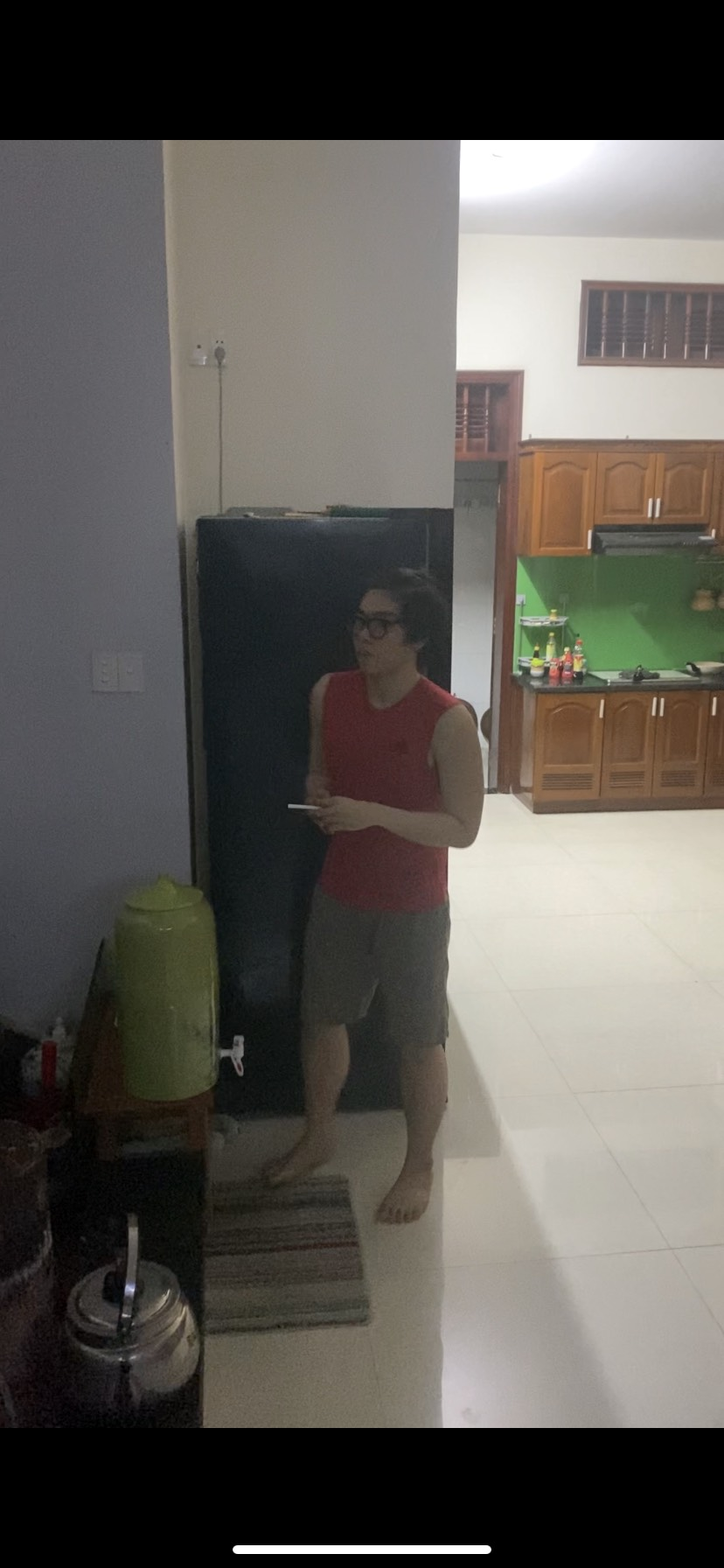cigarette: (283, 800, 323, 813)
person: (267, 567, 487, 1256)
